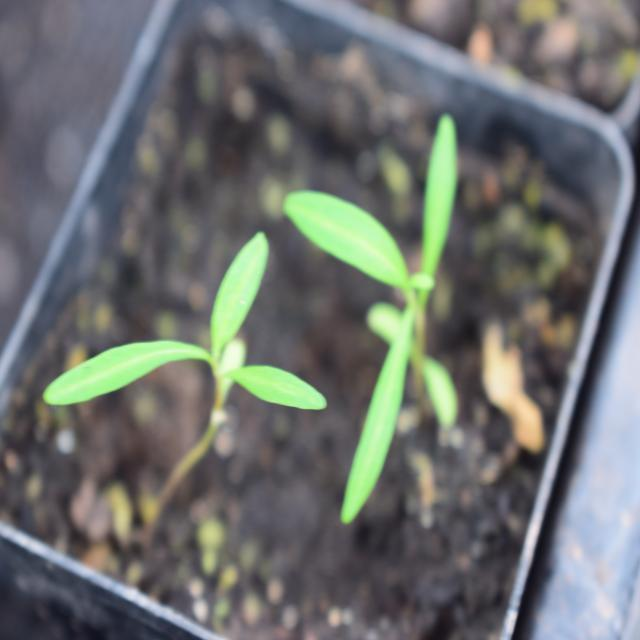white_smart_weed: (284, 153, 496, 517), (29, 217, 331, 445)
